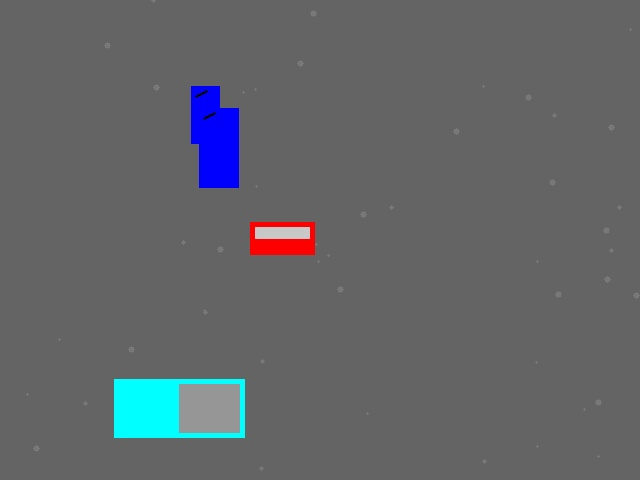car: (250, 222, 314, 254)
motorcycle: (199, 108, 238, 187), (191, 86, 219, 143)
truck: (114, 379, 244, 437)
